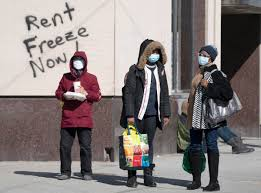mask: (134, 33, 168, 71), (195, 40, 222, 69), (66, 48, 89, 77)
